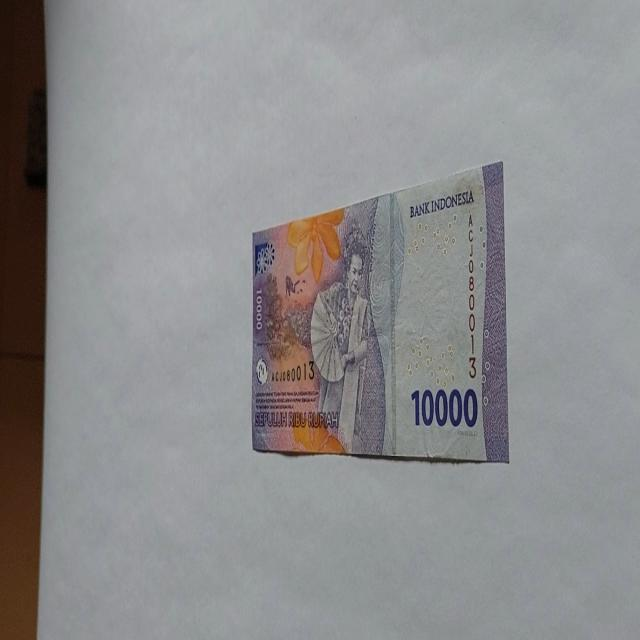sepuluh ribu rupiah: (250, 159, 509, 464), (408, 188, 475, 218)
